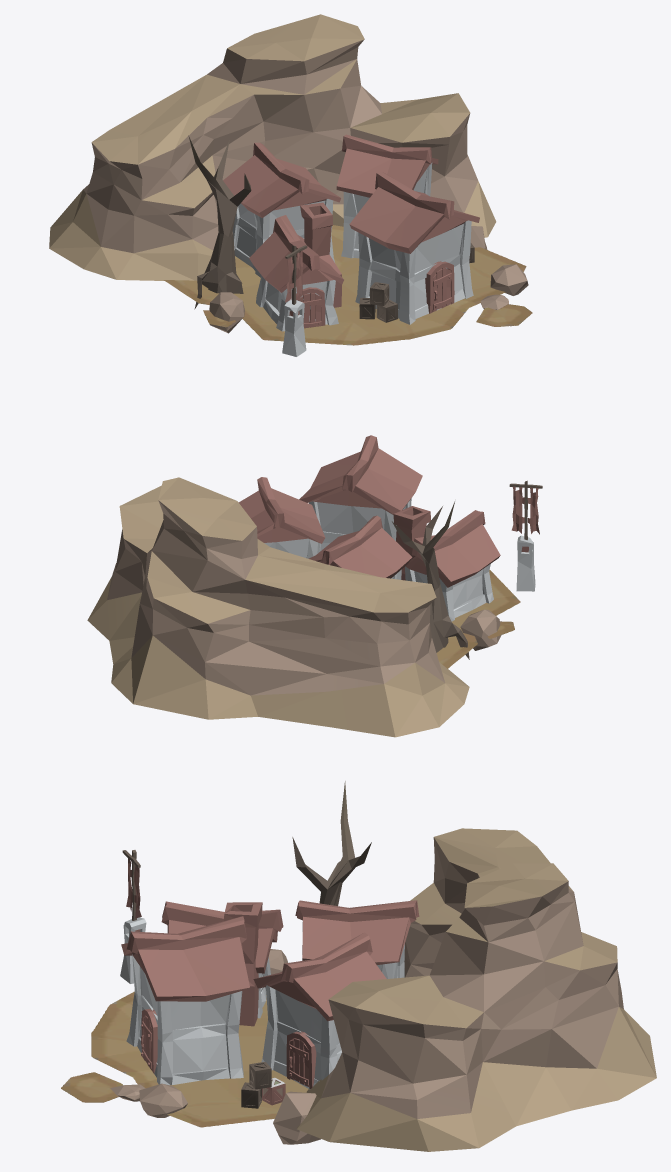
Rendered from townDesert2.fbx.
The picture shows the model from 3 angles, top to bottom: view 1: azimuth 30°, elevation 25°; view 2: azimuth 150°, elevation 25°; view 3: azimuth 270°, elevation 25°; orthographic projection. The views are drawn at different scales.
Visible parts, largest first — view 1: townDesert2, groundDecal; view 2: townDesert2, groundDecal; view 3: townDesert2, groundDecal.
Part boxes in pixels (x1=…): townDesert2: x1=49, y1=14, x2=528, y2=356; groundDecal: x1=163, y1=225, x2=532, y2=345; townDesert2: x1=87, y1=435, x2=542, y2=737; groundDecal: x1=436, y1=570, x2=520, y2=668; townDesert2: x1=110, y1=781, x2=656, y2=1151; groundDecal: x1=61, y1=991, x2=308, y2=1127.
Bounding box in the file's own units: 6.4 × 2.9 × 7.59.
